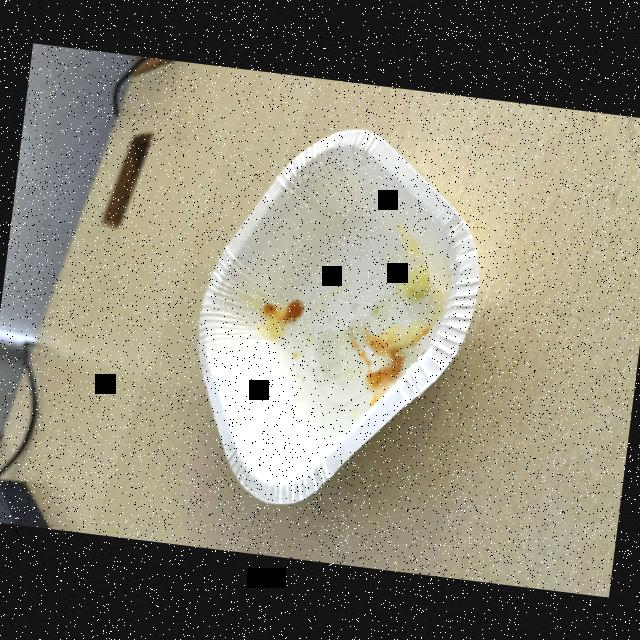cardboard_bowl: (164, 108, 506, 532)
